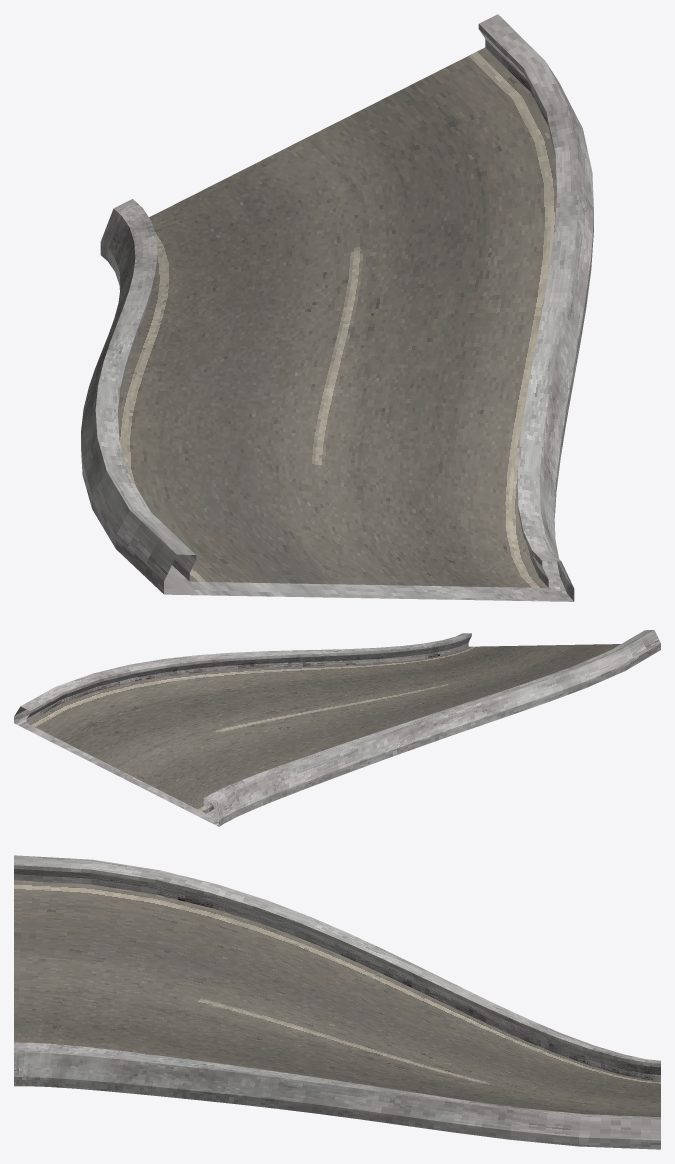
File: road-Chicane-HalfBankedRight-HalfBankedLeft-Even-Right1-Size2.glb
3 renders of one model, top to bottom at view 1: azimuth 30°, elevation 25°; view 2: azimuth 150°, elevation 25°; view 3: azimuth 270°, elevation 25°, orthographic. The views are drawn at different scales.
Parts seen in each view (by area): view 1: road-Chicane-HalfBankedRight-HalfBankedLeft-Even-Right1-Size; view 2: road-Chicane-HalfBankedRight-HalfBankedLeft-Even-Right1-Size; view 3: road-Chicane-HalfBankedRight-HalfBankedLeft-Even-Right1-Size.
Part boxes in pixels (x1,y1,x2,y2): road-Chicane-HalfBankedRight-HalfBankedLeft-Even-Right1-Size: (81,14,593,601); road-Chicane-HalfBankedRight-HalfBankedLeft-Even-Right1-Size: (14,630,660,826); road-Chicane-HalfBankedRight-HalfBankedLeft-Even-Right1-Size: (14,855,660,1149).
Bounding box in the file's own units: 2 × 0.3359 × 2.
2 materials, 2 textured.
